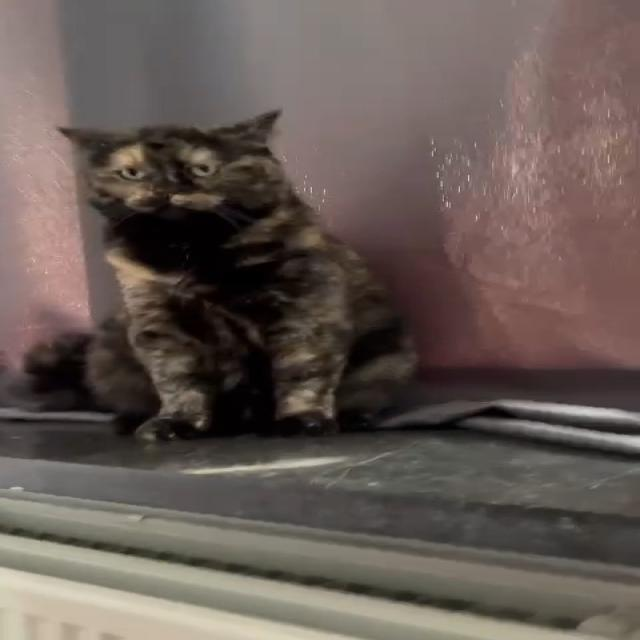authorized: (41, 107, 420, 442)
